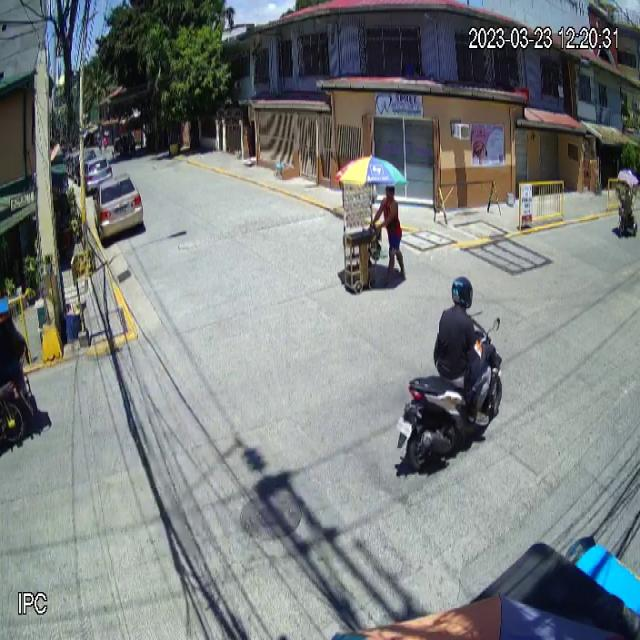Motorcycle: (393, 322, 504, 476)
